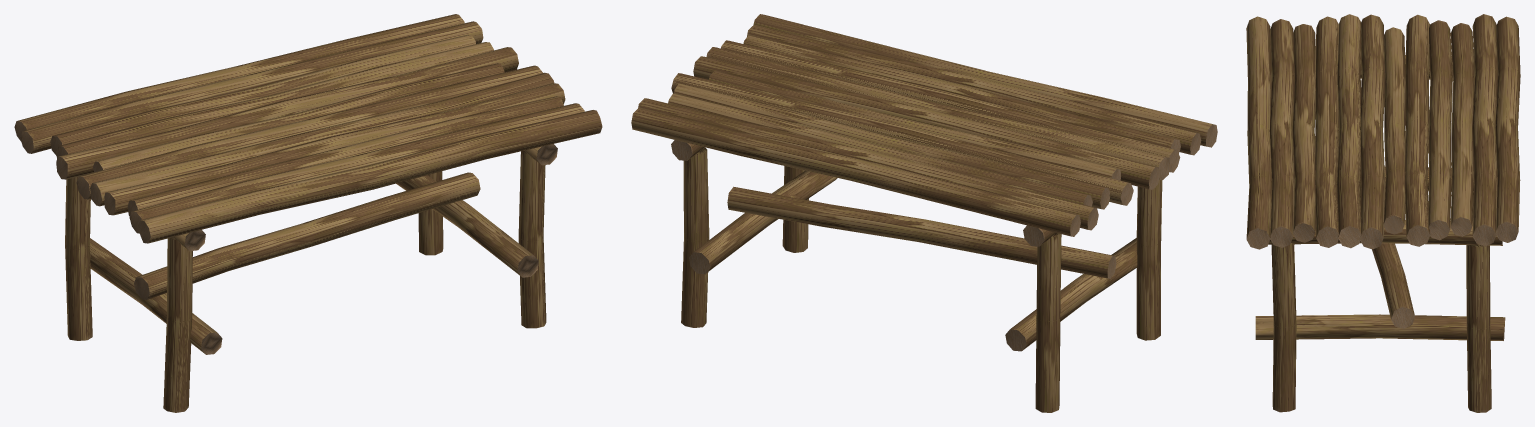
File: Workbench.fbx
3 views of the same model, side by side, from view 1: azimuth 30°, elevation 25°; view 2: azimuth 150°, elevation 25°; view 3: azimuth 270°, elevation 25° (orthographic). The views are drawn at different scales.
Visible parts, largest first — view 1: Model; view 2: Model; view 3: Model.
Boxes of the visible parts, box(x1,y1,x2,y2) form: Model: box(14, 14, 602, 412); Model: box(631, 14, 1217, 412); Model: box(1246, 14, 1520, 412).
Bounding box in the file's own units: 777 × 354 × 422.
